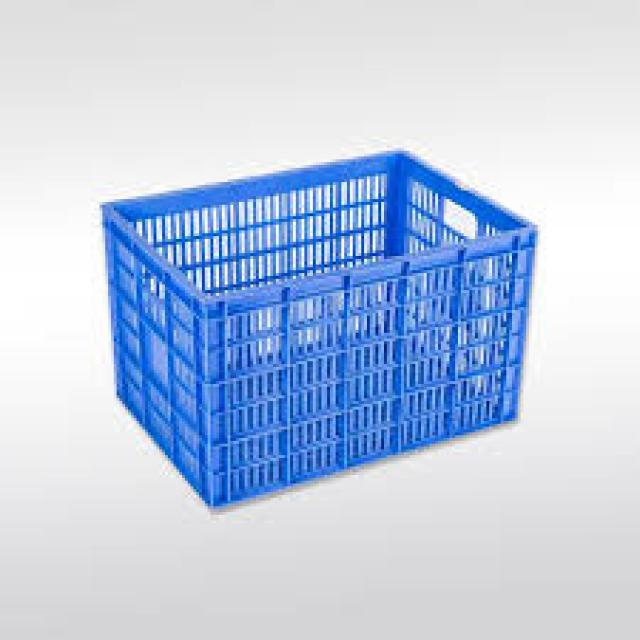basket: (64, 89, 588, 527)
